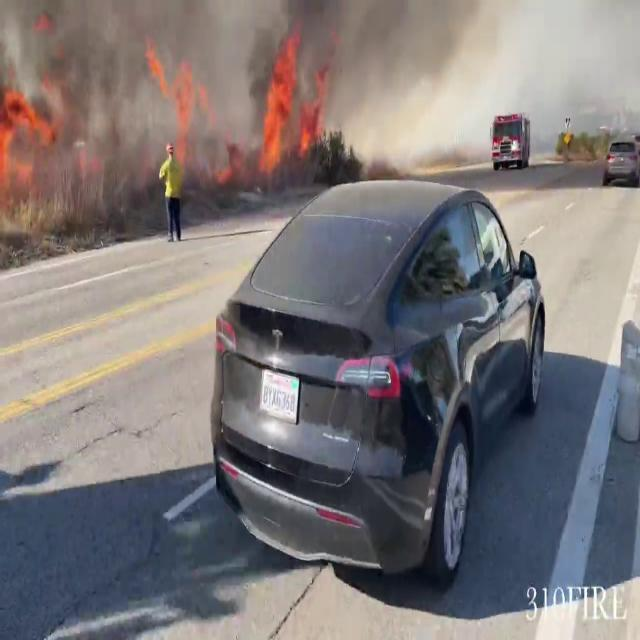Fire: (255, 27, 310, 179), (0, 76, 50, 216)
Smoke: (0, 0, 618, 159)
